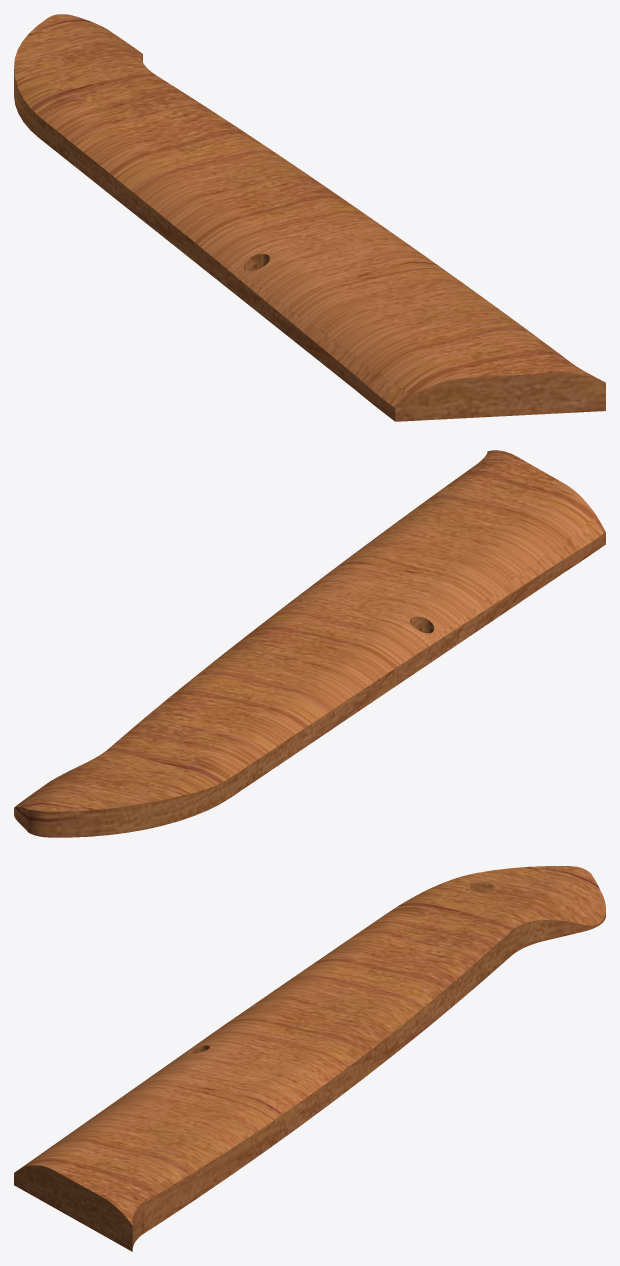
Rendered from original-54.obj.
The picture shows the model from 3 angles, top to bottom: view 1: azimuth 30°, elevation 25°; view 2: azimuth 150°, elevation 25°; view 3: azimuth 330°, elevation 25°; orthographic projection. The views are drawn at different scales.
Visible parts, largest first — view 1: #ID271; view 2: #ID271; view 3: #ID271.
Boxes of the visible parts, box(x1,y1,x2,y2) form: #ID271: box(14, 14, 605, 421); #ID271: box(14, 450, 605, 837); #ID271: box(14, 866, 605, 1251).
Size of the model in its own units: 0.1567 by 0.0328 by 0.7531.
